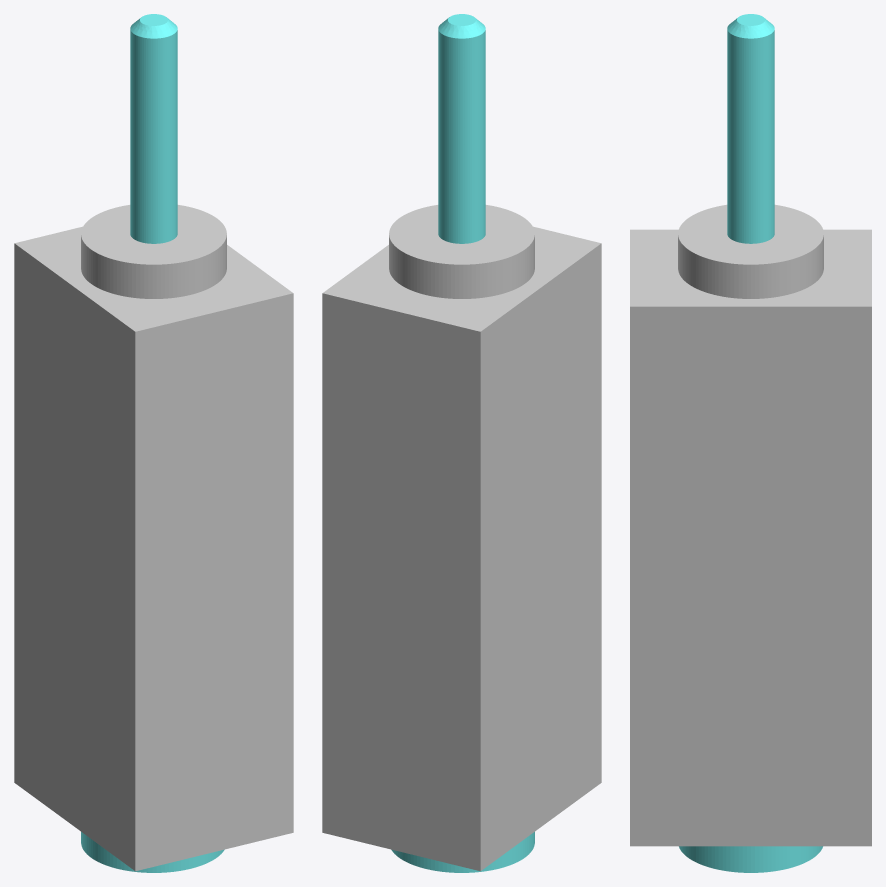
The picture shows the model from 3 angles, left to right: view 1: azimuth 30°, elevation 25°; view 2: azimuth 150°, elevation 25°; view 3: azimuth 270°, elevation 25°; orthographic projection.
Parts seen in each view (by area): view 1: out.body, out.shaft, out.back; view 2: out.body, out.shaft, out.back; view 3: out.body, out.shaft, out.back.
Part boxes in pixels (bbox=[...]): out.body: bbox=[14, 205, 293, 871]; out.shaft: bbox=[130, 14, 177, 243]; out.back: bbox=[81, 832, 224, 872]; out.body: bbox=[322, 205, 601, 871]; out.shaft: bbox=[438, 14, 485, 243]; out.back: bbox=[391, 832, 534, 872]; out.body: bbox=[630, 204, 871, 846]; out.shaft: bbox=[727, 14, 774, 243]; out.back: bbox=[679, 846, 822, 872].
Bounding box in the file's own units: 0.0077 × 0.0383 × 0.0102.
